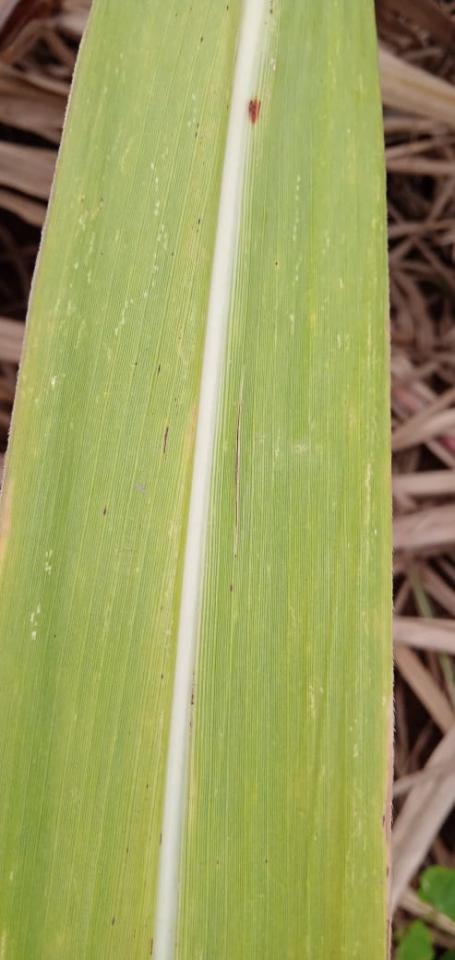RedRot: (247, 96, 263, 125)
Rust: (162, 425, 170, 454), (149, 936, 154, 956), (101, 504, 108, 517), (157, 363, 162, 375), (111, 916, 116, 927), (269, 7, 274, 16), (229, 584, 234, 592), (132, 929, 136, 939), (200, 36, 204, 43), (226, 5, 229, 13), (198, 217, 201, 225), (196, 122, 199, 128), (195, 131, 197, 139)
Yellow: (0, 0, 245, 959), (174, 0, 393, 959)
